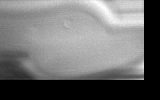cell: (23, 23, 41, 43), (58, 16, 74, 30)
